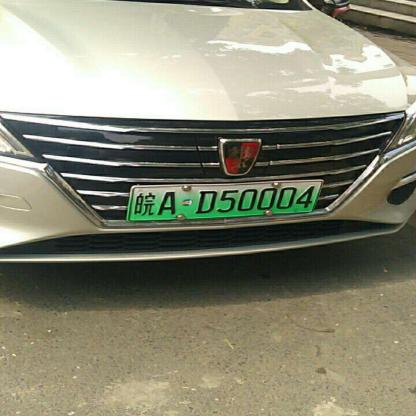lp: (128, 181, 324, 219)
